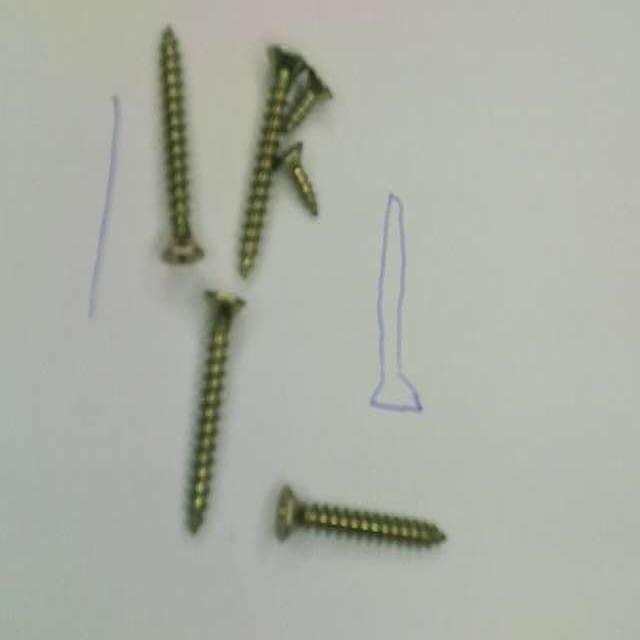Parafuso: (239, 46, 306, 278), (190, 291, 244, 531), (276, 486, 445, 547), (160, 27, 202, 263), (284, 67, 332, 133), (276, 142, 317, 215)
